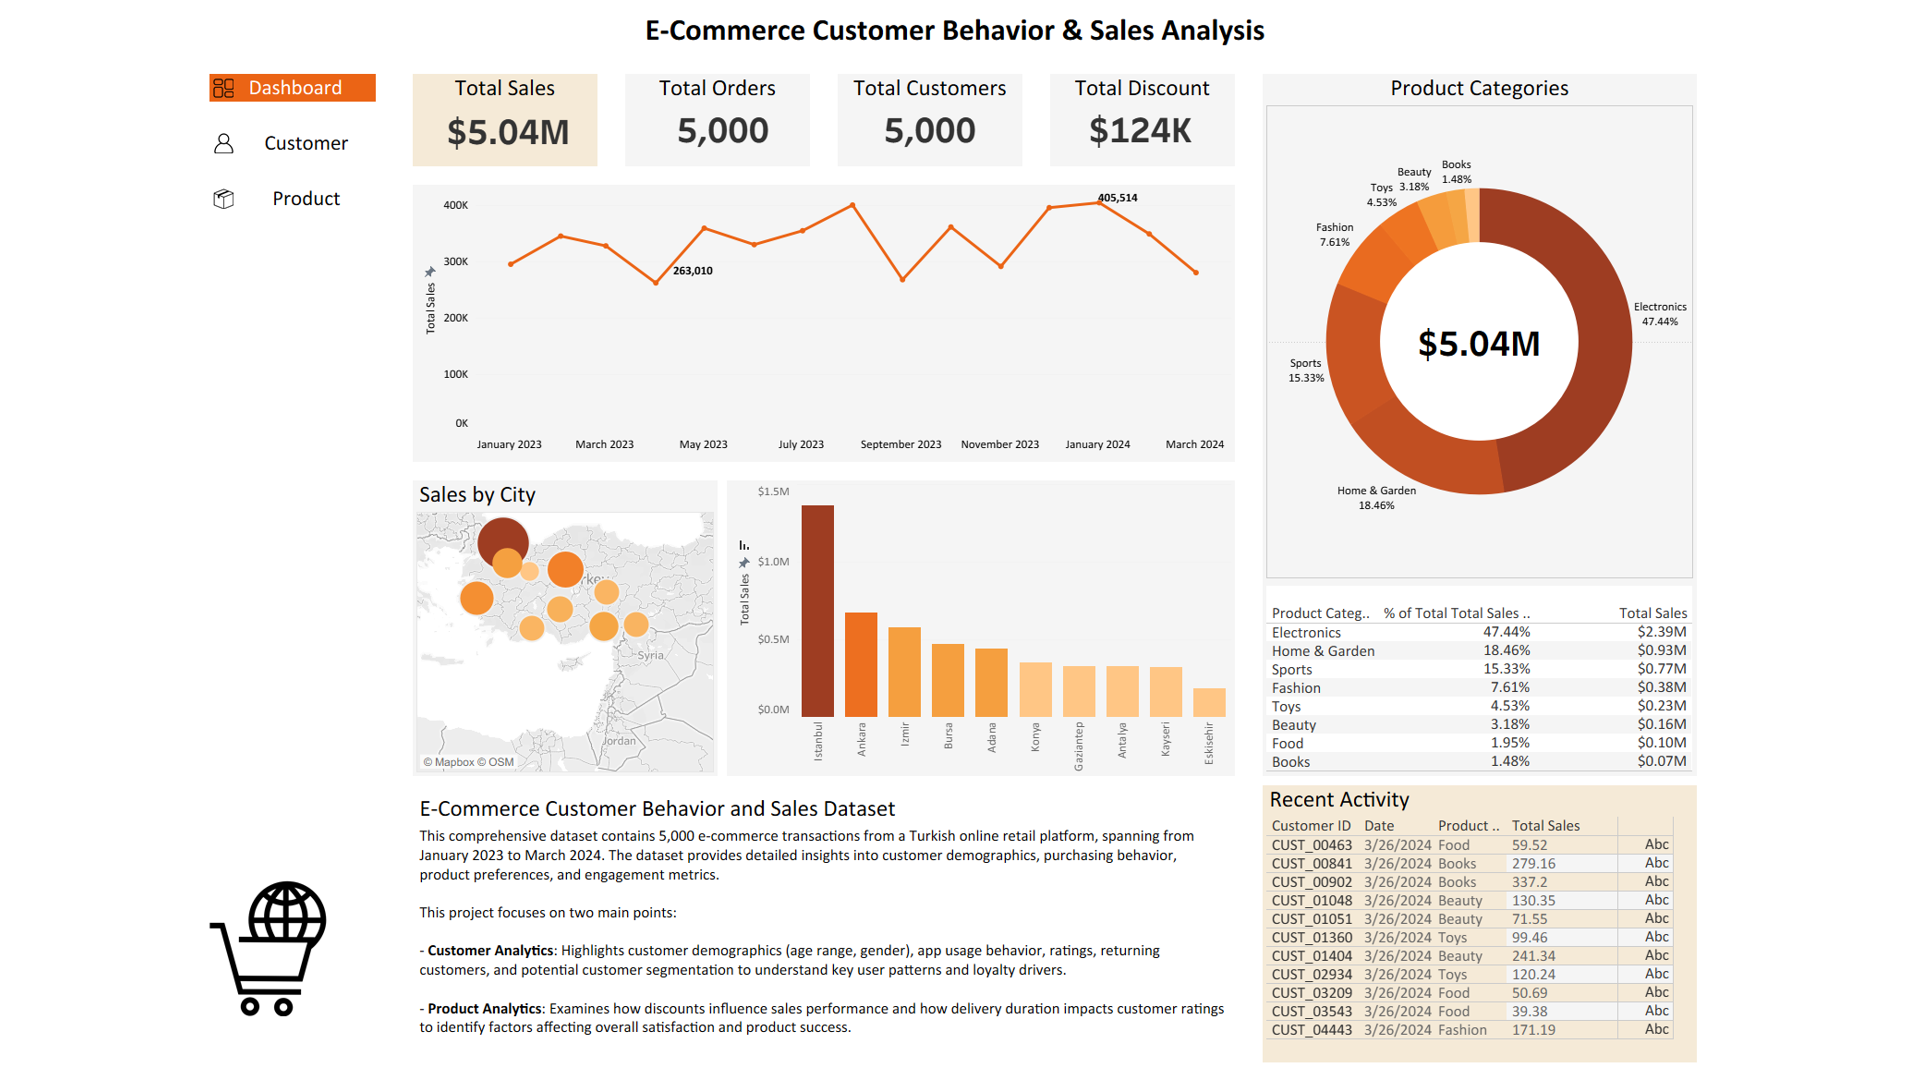

What the dashboard file says about the page in this screenshot:
{"tool":"tableau","page":{"name":"Dashboard","canvas":[1654,1169],"ordinal":1},"visuals":[{"type":"title","box":[8,8,1638,49]},{"type":"image","param":"Image/1.png","box":[20,80,30,30]},{"type":"text","box":[50,80,120,30]},{"type":"text","box":[240,80,200,30]},{"type":"text","box":[470,80,200,30]},{"type":"text","box":[700,80,200,30]},{"type":"text","box":[930,80,200,30]},{"type":"text","box":[1160,80,470,30]},{"type":"worksheet","title":"Total Sales","mark":"Automatic","box":[240,110,200,70]},{"type":"worksheet","title":"Total Orders","mark":"Automatic","box":[470,110,200,58]},{"type":"worksheet","title":"Total Customers","mark":"Automatic","box":[700,110,200,58]},{"type":"worksheet","title":"Total Discount","mark":"Automatic","box":[930,110,200,58]},{"type":"worksheet","title":"Top Categories","mark":"Pie","rows":["Calculation_1930636867859955715","Calculation_1930636867859955715"],"box":[1160,110,470,520]},{"type":"image","param":"Image/3.png","box":[20,140,30,30]},{"type":"dashboard-object","box":[50,140,150,30]},{"type":"image","param":"Image/2.png","box":[20,200,30,30]},{"type":"dashboard-object","box":[50,200,150,30]},{"type":"worksheet","title":"Sales by Months","mark":"Automatic","rows":["Calculation_1930636867845853185"],"cols":["Date"],"box":[240,200,890,300]},{"type":"text","box":[240,520,330,30]},{"type":"worksheet","title":"Sales by City","mark":"Automatic","rows":["Calculation_1930636867845853185"],"cols":["City"],"box":[580,520,550,320]},{"type":"worksheet","title":"Sales by City - Map","mark":"Automatic","box":[240,550,330,290]},{"type":"worksheet","title":"Top Categories (2)","mark":"Automatic","rows":["Product_Category"],"box":[1160,630,470,210]},{"type":"text","box":[1160,850,470,30]},{"type":"text","box":[240,860,890,30]},{"type":"worksheet","title":"Recent Activity","mark":"Automatic","rows":["Customer_ID","Date","Product_Category","Calculation_1930636867845853185"],"box":[1160,880,470,249]},{"type":"text","box":[240,890,890,239]},{"type":"image","param":"Image/4.png","box":[20,950,150,150]}]}

Visuals, with their boxes on the page's 1654x1169 design canvas (x1, y1, x2, y2). These are canvas units, not pixel positions in the 1914x1079 screenshot, which may show the page scaled, cropped or inside an application window:
title: pyautogui.locateOnScreen(8, 8, 1646, 57)
image: pyautogui.locateOnScreen(20, 80, 50, 110)
text: pyautogui.locateOnScreen(50, 80, 170, 110)
text: pyautogui.locateOnScreen(240, 80, 440, 110)
text: pyautogui.locateOnScreen(470, 80, 670, 110)
text: pyautogui.locateOnScreen(700, 80, 900, 110)
text: pyautogui.locateOnScreen(930, 80, 1130, 110)
text: pyautogui.locateOnScreen(1160, 80, 1630, 110)
"Total Sales" worksheet: pyautogui.locateOnScreen(240, 110, 440, 180)
"Total Orders" worksheet: pyautogui.locateOnScreen(470, 110, 670, 168)
"Total Customers" worksheet: pyautogui.locateOnScreen(700, 110, 900, 168)
"Total Discount" worksheet: pyautogui.locateOnScreen(930, 110, 1130, 168)
"Top Categories" worksheet (Pie marks): pyautogui.locateOnScreen(1160, 110, 1630, 630)
image: pyautogui.locateOnScreen(20, 140, 50, 170)
dashboard-object: pyautogui.locateOnScreen(50, 140, 200, 170)
image: pyautogui.locateOnScreen(20, 200, 50, 230)
dashboard-object: pyautogui.locateOnScreen(50, 200, 200, 230)
"Sales by Months" worksheet: pyautogui.locateOnScreen(240, 200, 1130, 500)
text: pyautogui.locateOnScreen(240, 520, 570, 550)
"Sales by City" worksheet: pyautogui.locateOnScreen(580, 520, 1130, 840)
"Sales by City - Map" worksheet: pyautogui.locateOnScreen(240, 550, 570, 840)
"Top Categories (2)" worksheet: pyautogui.locateOnScreen(1160, 630, 1630, 840)
text: pyautogui.locateOnScreen(1160, 850, 1630, 880)
text: pyautogui.locateOnScreen(240, 860, 1130, 890)
"Recent Activity" worksheet: pyautogui.locateOnScreen(1160, 880, 1630, 1129)
text: pyautogui.locateOnScreen(240, 890, 1130, 1129)
image: pyautogui.locateOnScreen(20, 950, 170, 1100)
